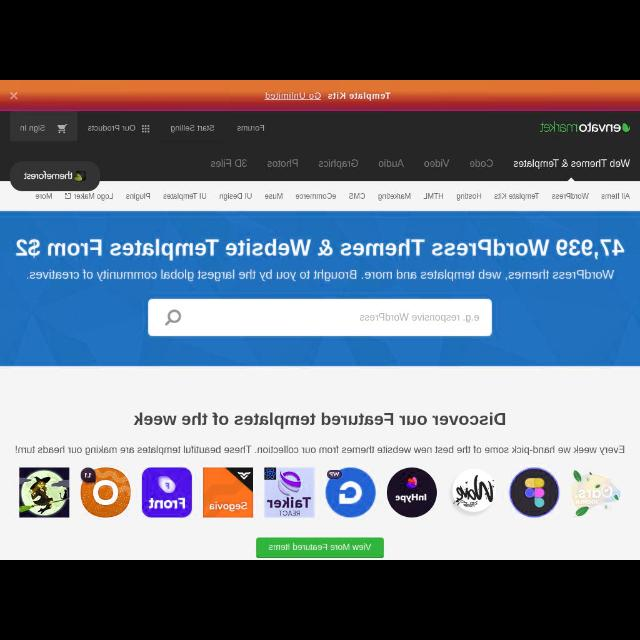icon: (163, 310, 180, 326), (56, 123, 68, 135), (140, 125, 150, 134), (10, 90, 18, 100), (64, 192, 72, 200)
image: (263, 467, 315, 518), (324, 468, 376, 518), (80, 466, 130, 518), (19, 468, 70, 518), (509, 468, 559, 518), (387, 468, 437, 518), (203, 468, 253, 518), (141, 468, 191, 518), (571, 470, 621, 518), (452, 471, 494, 514), (539, 122, 631, 134), (74, 172, 86, 182)
input: (147, 300, 491, 338)
multitab: (34, 192, 630, 202), (209, 158, 631, 168)
panel: (1, 80, 640, 112)
text: (16, 238, 624, 262), (26, 268, 616, 282), (133, 412, 505, 430), (14, 446, 626, 456), (263, 92, 391, 102), (514, 158, 630, 168), (268, 542, 372, 552), (360, 314, 480, 322), (162, 192, 208, 202), (171, 124, 215, 134), (317, 159, 358, 169), (23, 172, 73, 180), (74, 192, 114, 202), (87, 124, 135, 132), (210, 158, 248, 168), (494, 192, 540, 200), (378, 192, 412, 202), (219, 192, 253, 202), (267, 158, 299, 168), (551, 193, 589, 201), (18, 123, 46, 133), (296, 193, 336, 200), (424, 158, 451, 168), (468, 158, 494, 168), (378, 158, 404, 168), (456, 192, 482, 202), (601, 192, 631, 200), (126, 192, 150, 202), (237, 124, 265, 132), (422, 192, 443, 200), (348, 192, 366, 200), (35, 193, 53, 201), (264, 193, 284, 200)
textbutton: (10, 161, 100, 191), (256, 538, 384, 558), (11, 112, 78, 142)
